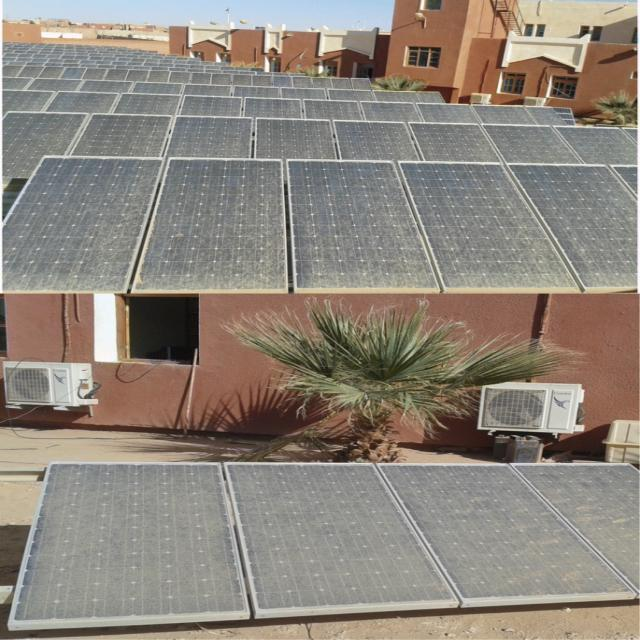dust-solar-panel: (9, 463, 640, 629), (0, 151, 640, 293), (2, 111, 640, 186)
